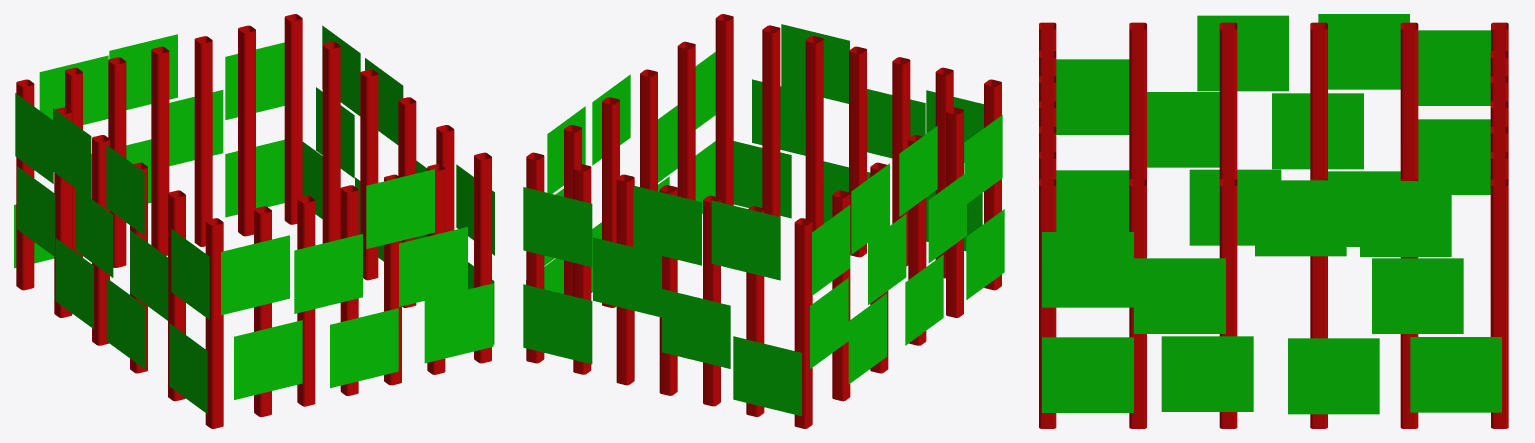
The model's file is Tower_Floor_3.fbx.
3 renders of one model, left to right at view 1: azimuth 30°, elevation 25°; view 2: azimuth 150°, elevation 25°; view 3: azimuth 270°, elevation 25°, orthographic. The views are drawn at different scales.
Parts seen in each view (by area): view 1: Floor_3_UV; view 2: Floor_3_UV; view 3: Floor_3_UV.
Part boxes in pixels (box(x1,y1,x2,y2)): Floor_3_UV: box(14, 14, 494, 428); Floor_3_UV: box(523, 14, 1004, 428); Floor_3_UV: box(1039, 14, 1508, 428).
Bounding box in the file's own units: 720 × 496 × 880.
